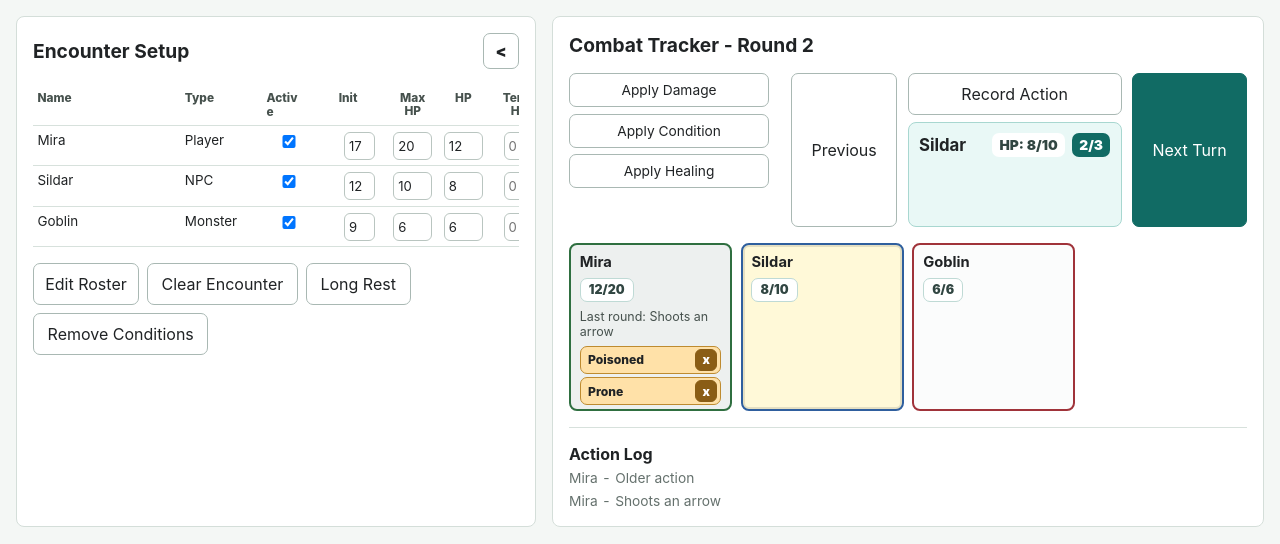
it: App workflow › renders compact turn cards with last-round actions and removable condition rows
The width and height of the screenshot is (1280, 544).
expect the text "Last round: Shoots an arrow" is shown: met, box [580,309,721,341]
expect the text "Prone" is shown: met, box [588,384,623,399]
Click the button named "Remove Poisoned from Mira": point(706, 360) [695,349,717,371]
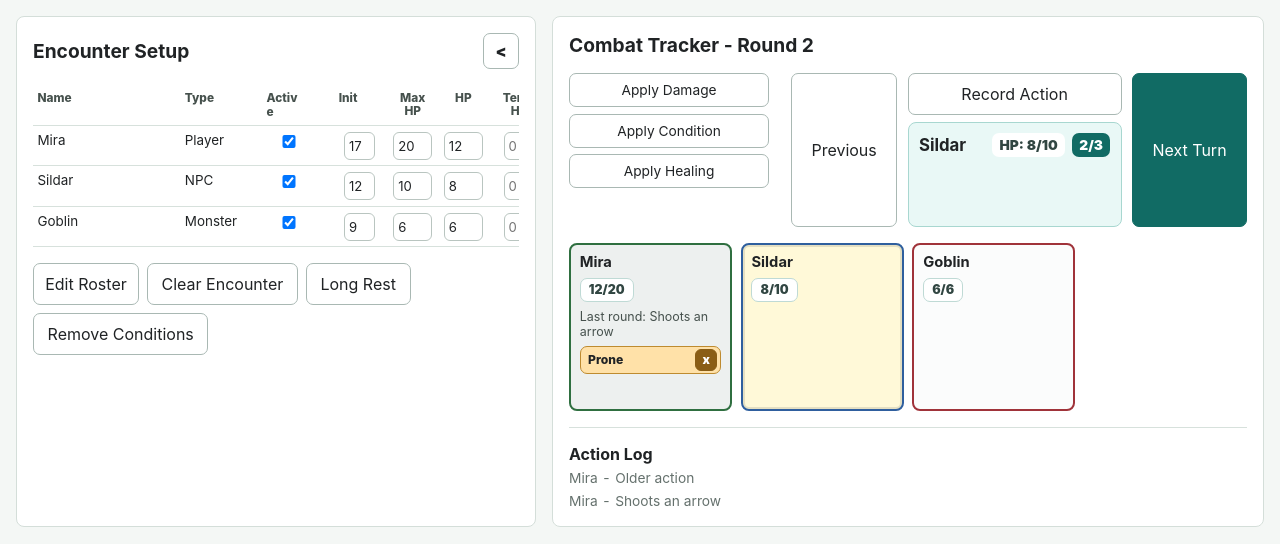
expect the text "Prone" is shown: met, box [588,352,623,367]
expect the text "Poisoned" is gone: met
